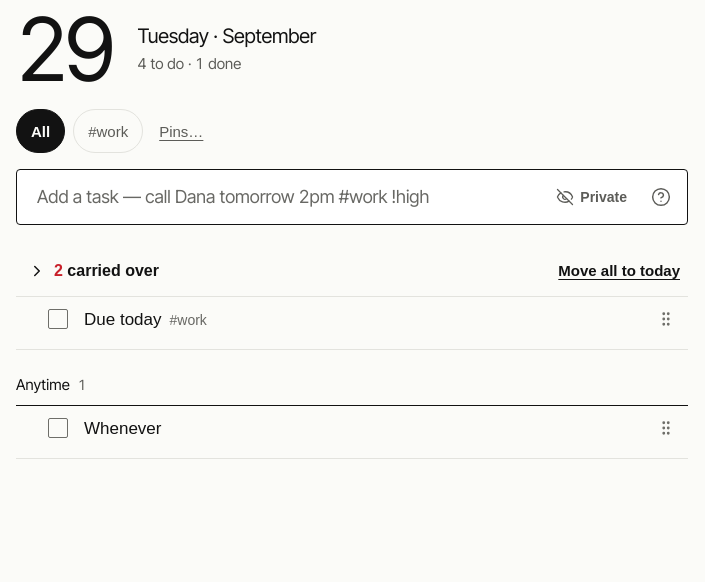
Test: Today › collapses carried-over tasks to one line with a count
This screenshot has width=705, height=582.
Expected: the text "Late one" is not shown
Click the button "2 carried over".
click(94, 271)  # box [20,249,167,293]
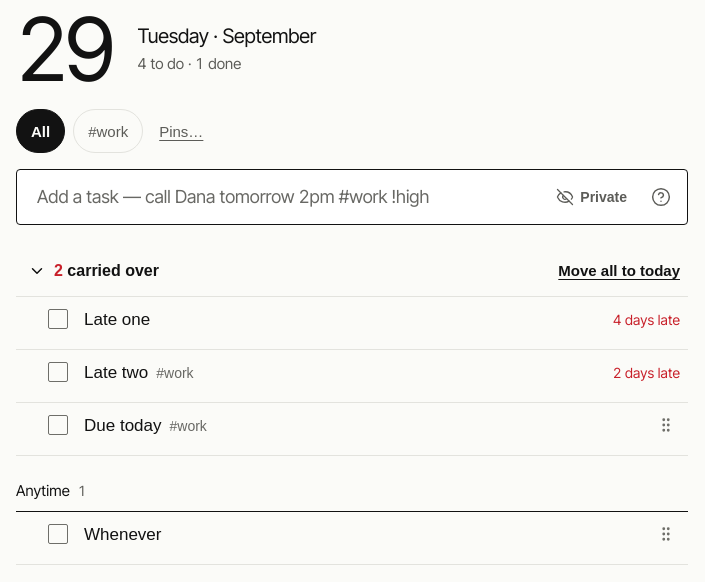
Expected: the text "Late one" is shown, [81,310,153,329]
Expected: the text "4 days late" is shown, [613,311,680,328]
